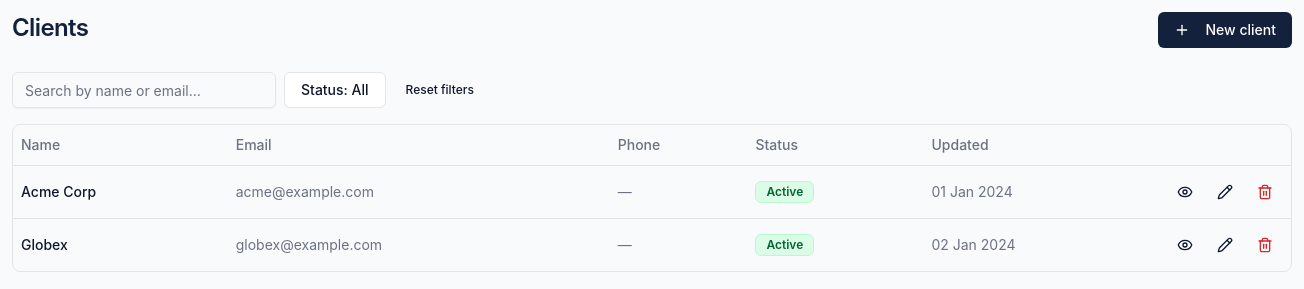
Test: ClientsPage › status filter: Inactive shows only inactive clients
This screenshot has width=1304, height=289.
Click the button with test id "status-filter-trigger" at (335, 90), box [284,72,386,108]
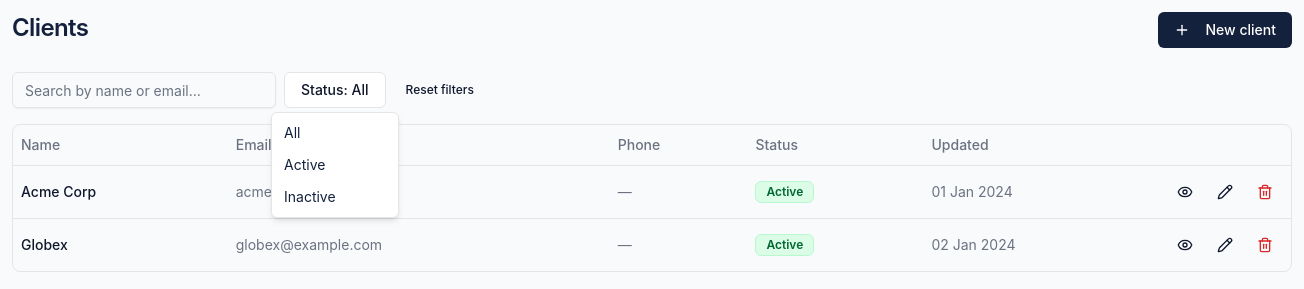
Click the menu item with test id "filter-inactive" at (310, 196), box [284,188,336,205]
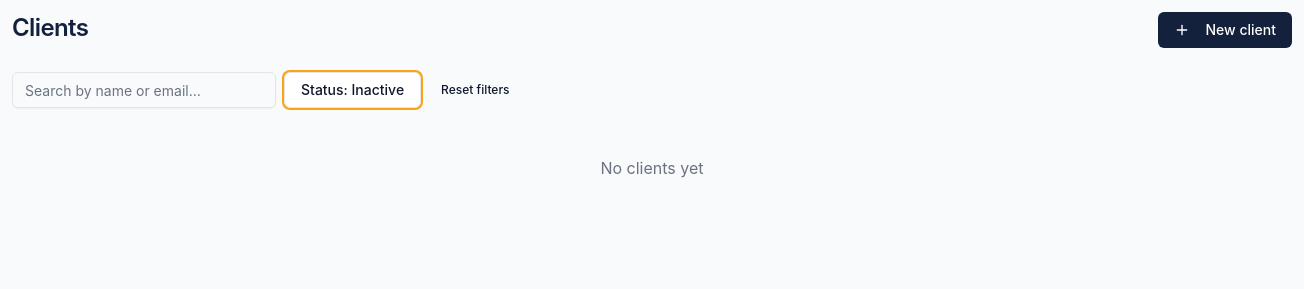
Expected: the text "No clients yet" is shown, [600,158,704,178]
